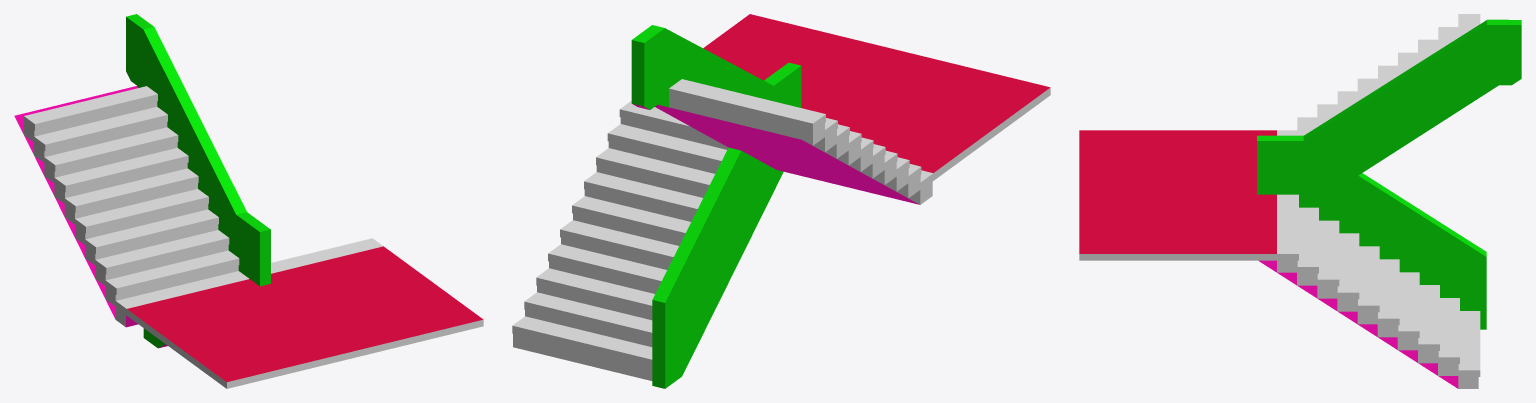
The model's file is Treppe.glb.
The picture shows the model from 3 angles, left to right: view 1: azimuth 30°, elevation 25°; view 2: azimuth 150°, elevation 25°; view 3: azimuth 270°, elevation 25°; orthographic projection. The views are drawn at different scales.
Visible parts, largest first — view 1: Treppe.005; view 2: Treppe.005; view 3: Treppe.005.
Part boxes in pixels (bbox=[...]): Treppe.005: bbox=[14, 14, 483, 388]; Treppe.005: bbox=[512, 14, 1050, 388]; Treppe.005: bbox=[1079, 14, 1521, 388].
Bounding box in the file's own units: 4 × 4.59 × 6.04.
